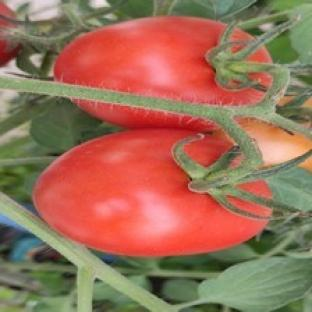Tomato: (34, 130, 267, 256), (55, 17, 263, 105), (241, 119, 311, 165), (0, 31, 19, 66)
